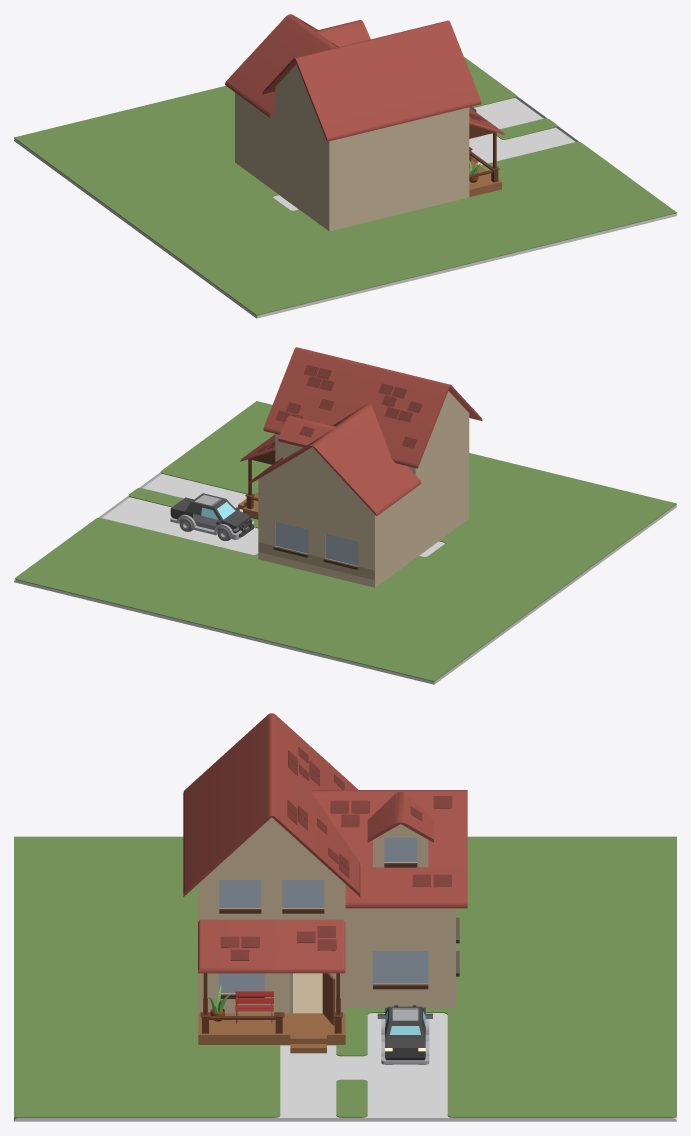
File: house1.glb
The picture shows the model from 3 angles, top to bottom: view 1: azimuth 30°, elevation 25°; view 2: azimuth 150°, elevation 25°; view 3: azimuth 270°, elevation 25°; orthographic projection. The views are drawn at different scales.
Parts seen in each view (by area): view 1: gras, house, roof, fence, porch; view 2: gras, house, roof, body, rooftops, windows; view 3: gras, roof, house, windows, rooftops, porch, body, fence, balcony, doorframe.001.
Part boxes in pixels (box(x1,y1,x2,y2)): gras: box(14, 57, 676, 318); house: box(235, 64, 469, 231); roof: box(225, 14, 504, 141); fence: box(469, 124, 499, 182); porch: box(469, 156, 501, 197); gras: box(14, 401, 676, 684); house: box(258, 391, 469, 587); roof: box(240, 347, 482, 516); body: box(170, 493, 253, 539); rooftops: box(257, 365, 422, 472); windows: box(275, 522, 358, 565); gras: box(14, 836, 676, 1121); roof: box(183, 713, 467, 973); house: box(198, 817, 459, 1013); windows: box(218, 837, 428, 993); rooftops: box(220, 747, 452, 960); porch: box(198, 1013, 345, 1053); body: box(377, 1006, 432, 1064); fence: box(200, 973, 342, 1033); balcony: box(219, 863, 459, 998); doorframe.001: box(322, 973, 335, 1025).
Size of the model in its own units: 18 by 6.5 by 18.
